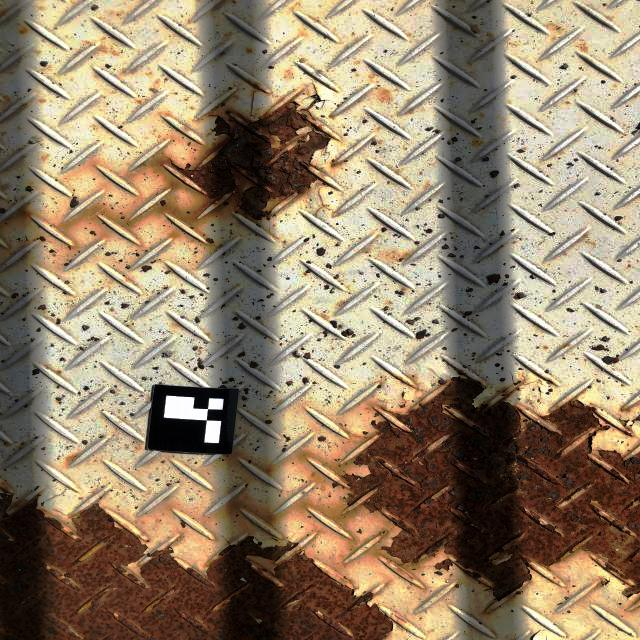Corrosion: (341, 378, 640, 600), (0, 478, 400, 640), (163, 90, 340, 220)
